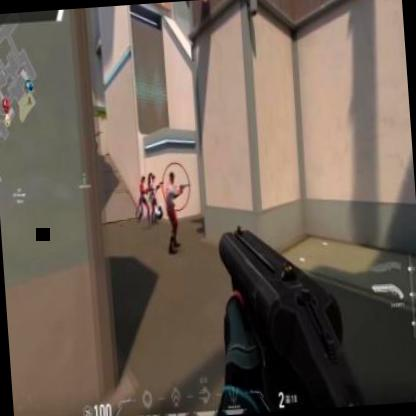enemy: (160, 175, 182, 252), (136, 174, 152, 225), (147, 175, 159, 230), (91, 127, 100, 154)
enemy_head: (170, 172, 175, 184), (151, 173, 156, 184), (140, 177, 146, 185), (92, 126, 96, 134)
